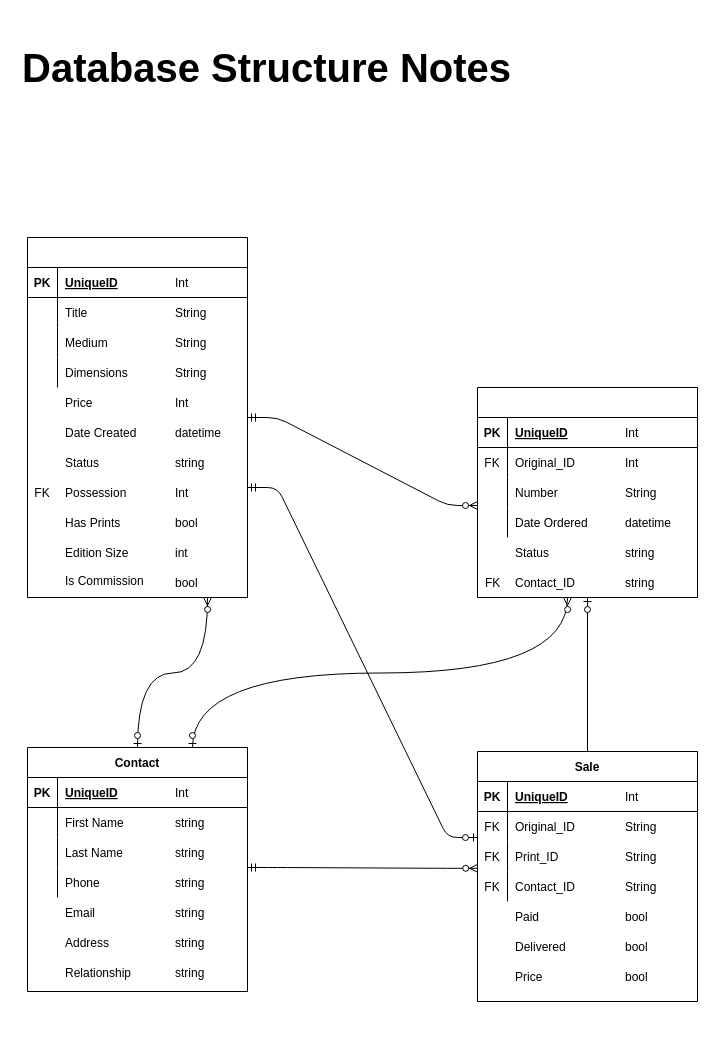
Some shapes in this 715 by 1039 pixel diagram are drawn without their labels. Here are the shapes that lost their labels. From the top down, the box of each, then its label:
(26, 236, 248, 598): Original
(476, 386, 698, 598): Print
